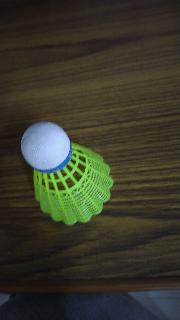shuttlecock: (20, 121, 112, 225)
